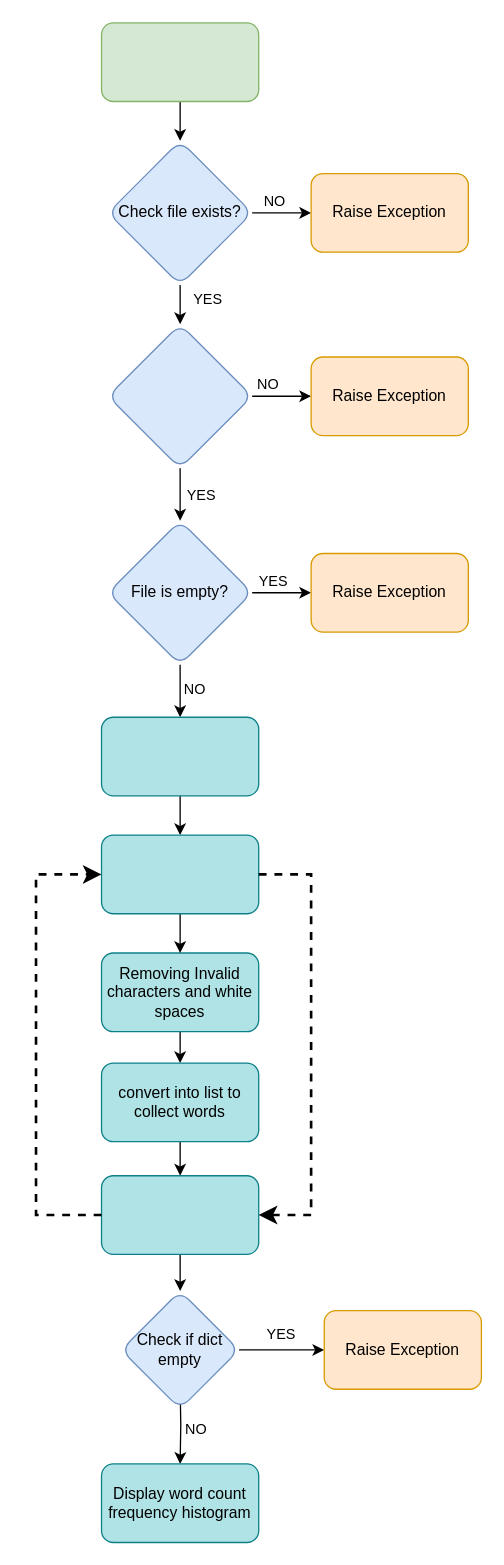
Image size: 504x1565. Some labels were removed from this diagram. The shapes that lost their labels are listed below. From the top down, each one's centre as x and y in pixels, then its label:
At point (179, 62): "Start".
At point (179, 395): "Check file is .txt".
At point (179, 756): "Open File".
At point (179, 874): "Read line from file".
At point (179, 1214): "Store in dict word and frequency".
